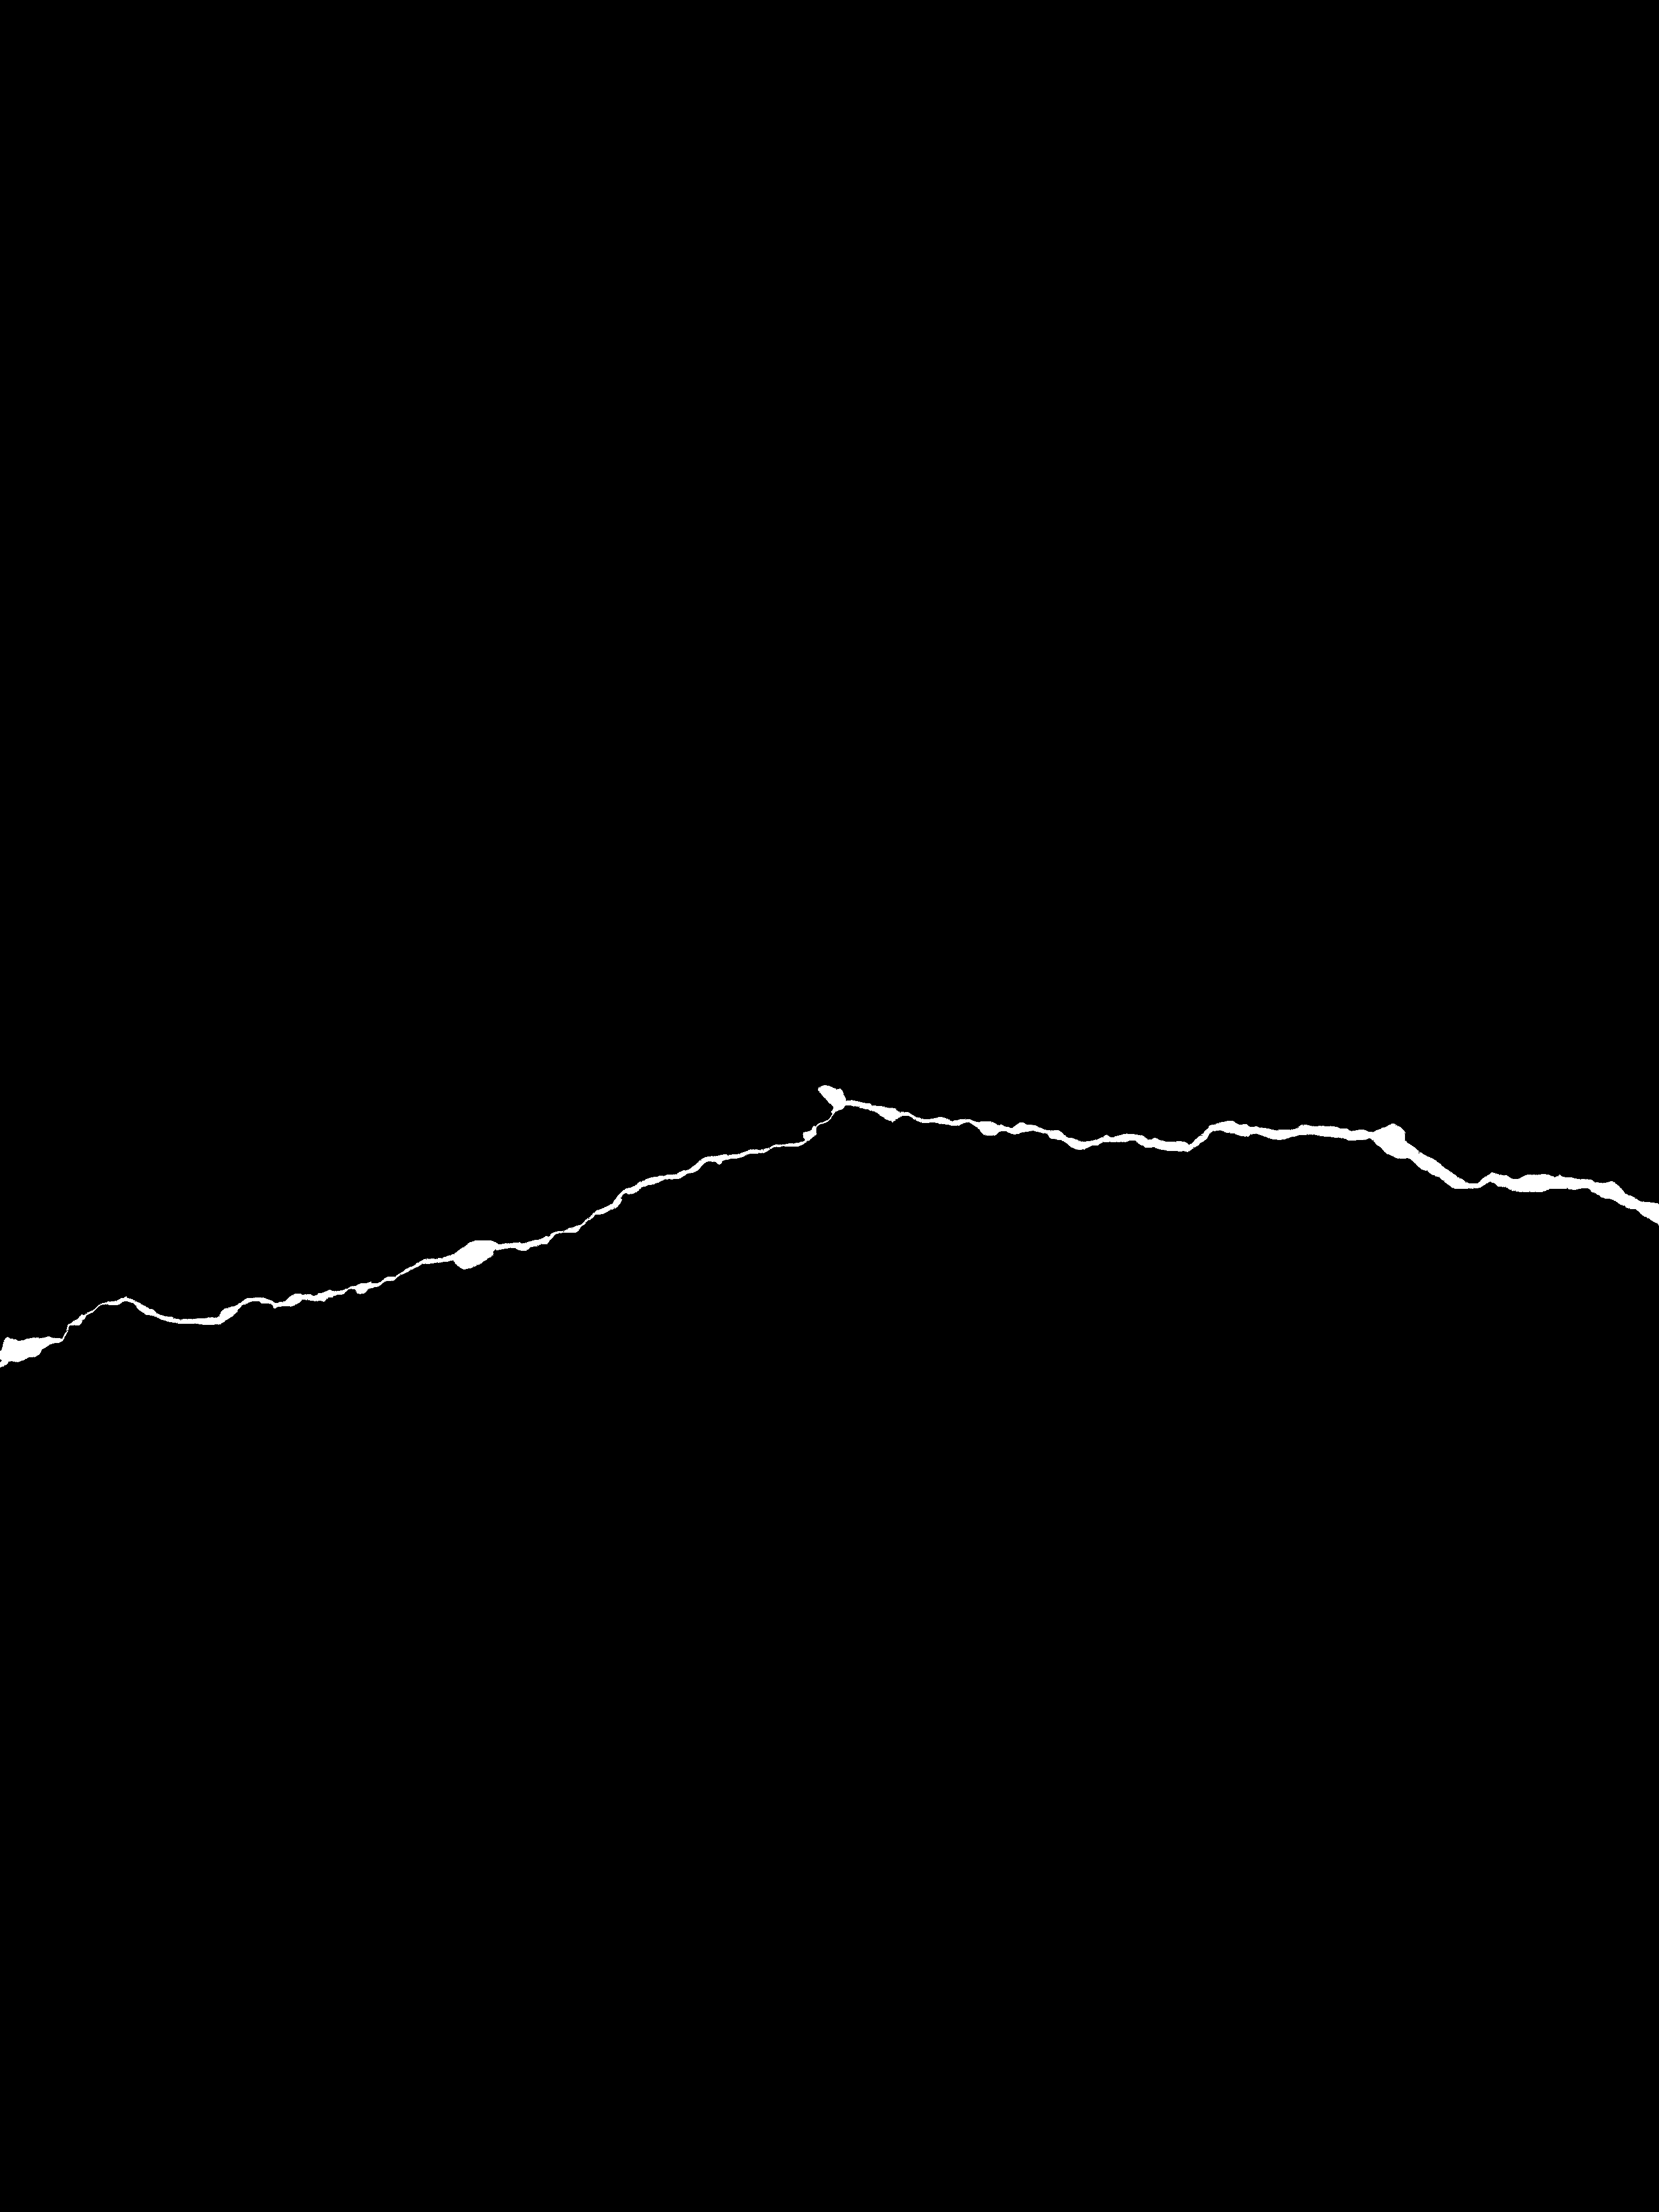Crack: (0, 1080, 1659, 1390)
